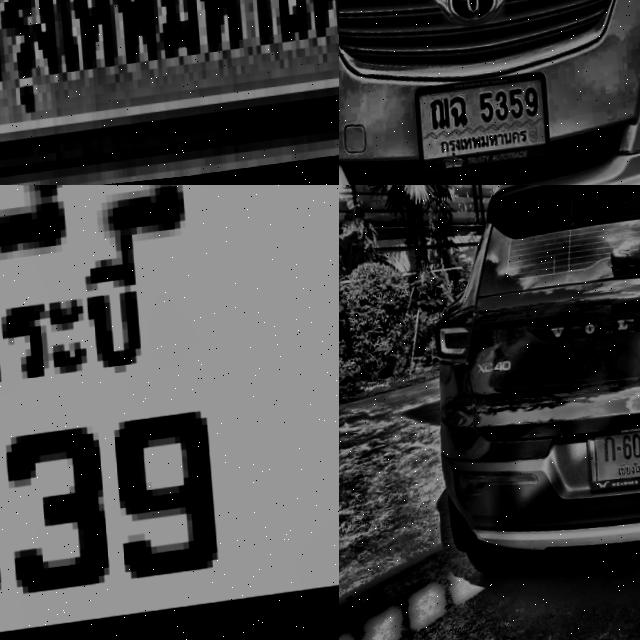license-plate: (0, 185, 339, 640), (0, 0, 339, 185), (408, 70, 546, 178), (580, 422, 640, 502)
